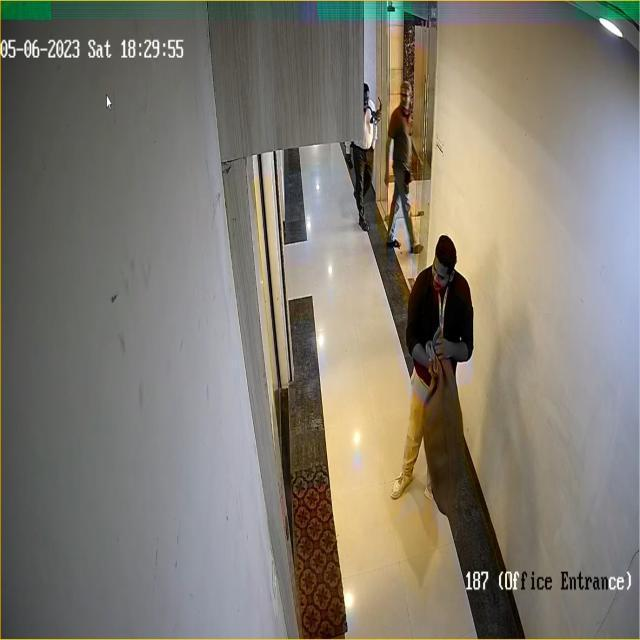gunny_bag: (422, 354, 472, 524)
